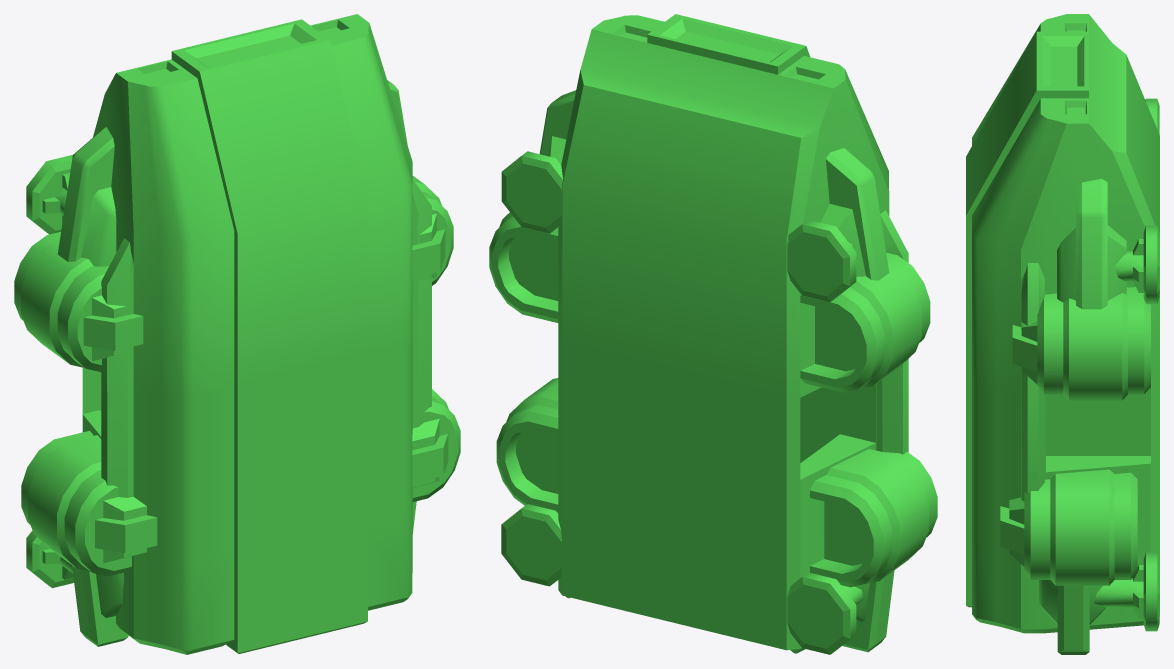
File: DropShip_Obj.obj
3 renders of one model, left to right at view 1: azimuth 30°, elevation 25°; view 2: azimuth 150°, elevation 25°; view 3: azimuth 270°, elevation 25°, orthographic. The views are drawn at different scales.
Visible parts, largest first — view 1: Target; view 2: Target; view 3: Target.
Part boxes in pixels (bbox=[...]): Target: bbox=[14, 14, 460, 654]; Target: bbox=[489, 14, 937, 654]; Target: bbox=[966, 14, 1159, 654].
Size of the model in its own units: 121 by 165 by 55.39.
